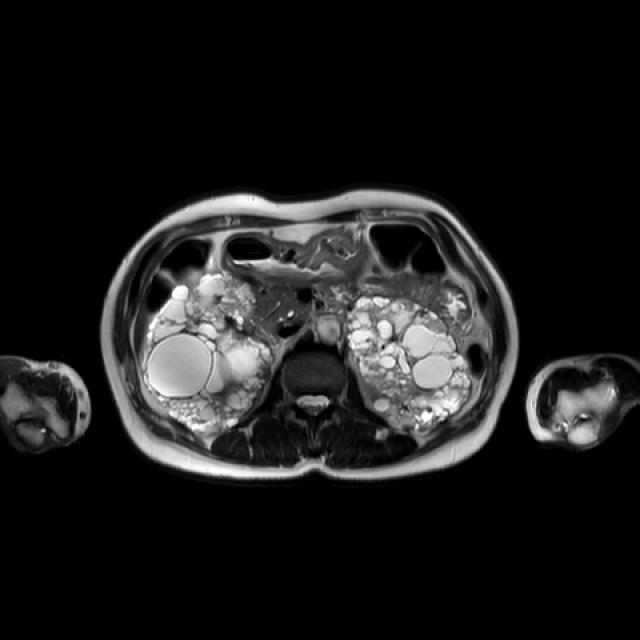sag: (145, 271, 275, 433)
sol: (353, 297, 471, 435)
